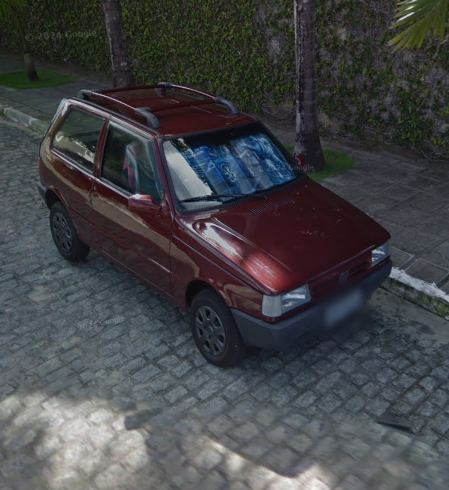car: (34, 76, 397, 370)
